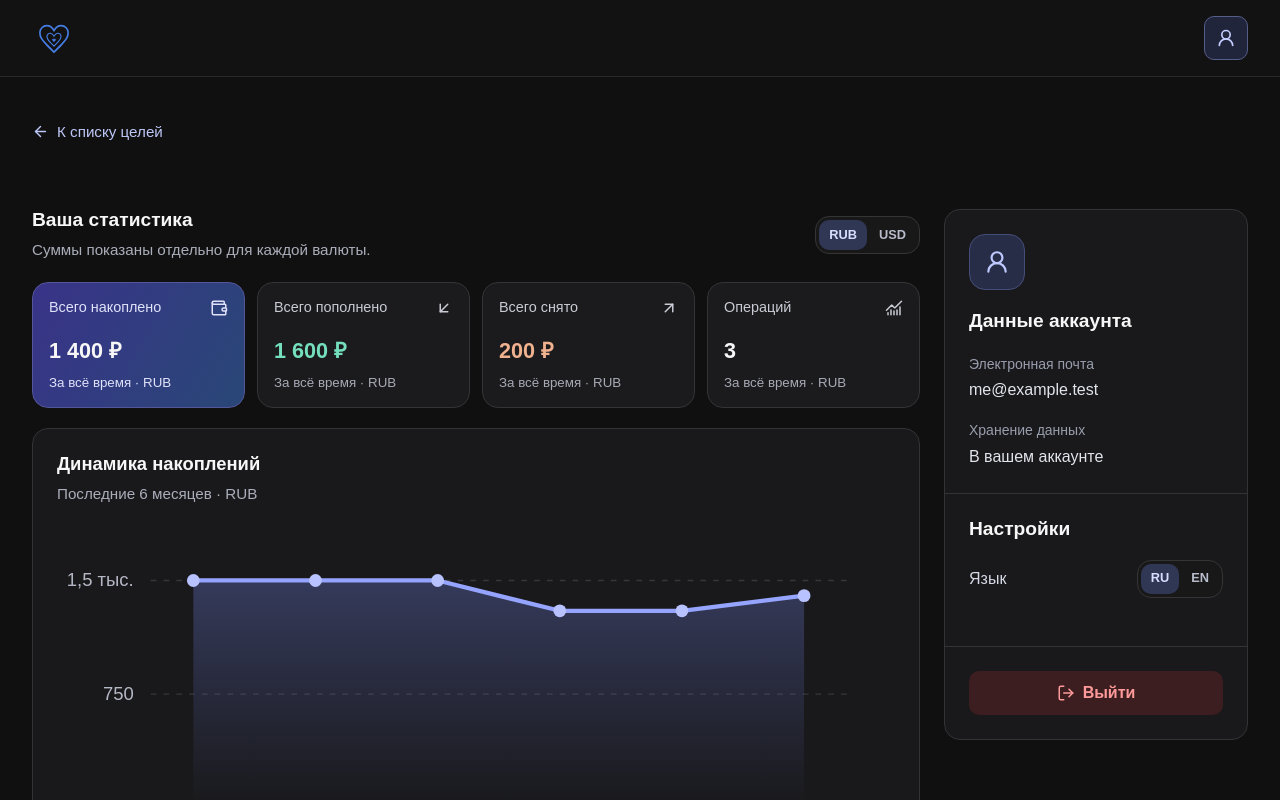
Scenario: keeps the profile open and shows an error if sign-out fails
Click the button "Выйти" at (1096, 693), box [969,671,1223,715]
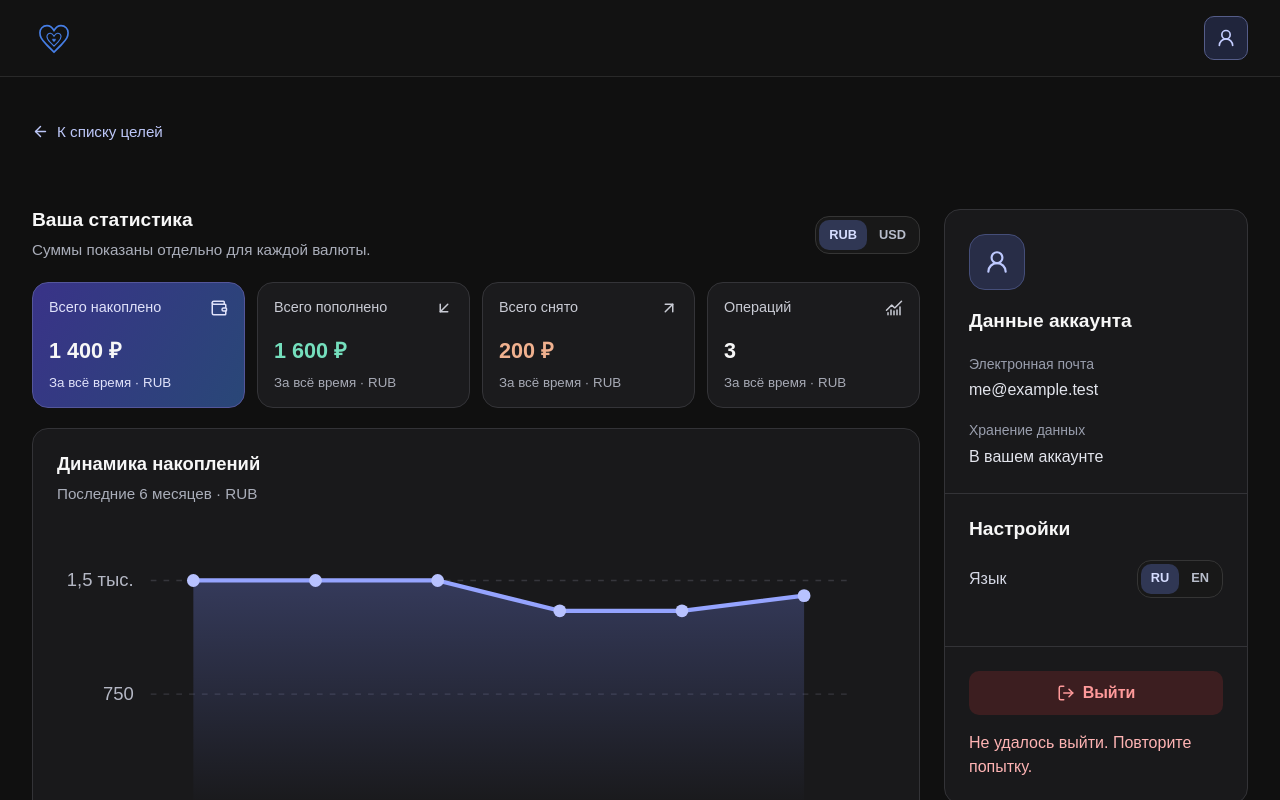
Now the message shows "Не удалось выйти", box [969,734,1191,775]
